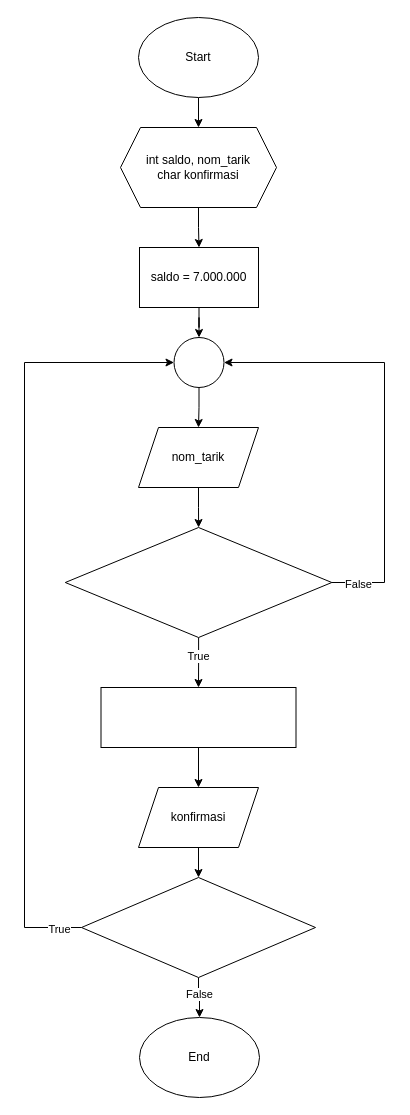
This 410x1115 diagram has some shape labels left out. The shapes that lost their labels are listed below. From the top down, each one's centre as x and y in pixels, then its label:
At (198,582): "nom_tarik < saldo".
At (198,717): "saldo -= nom_tarik".
At (198,927): "konfirmasi = y".
